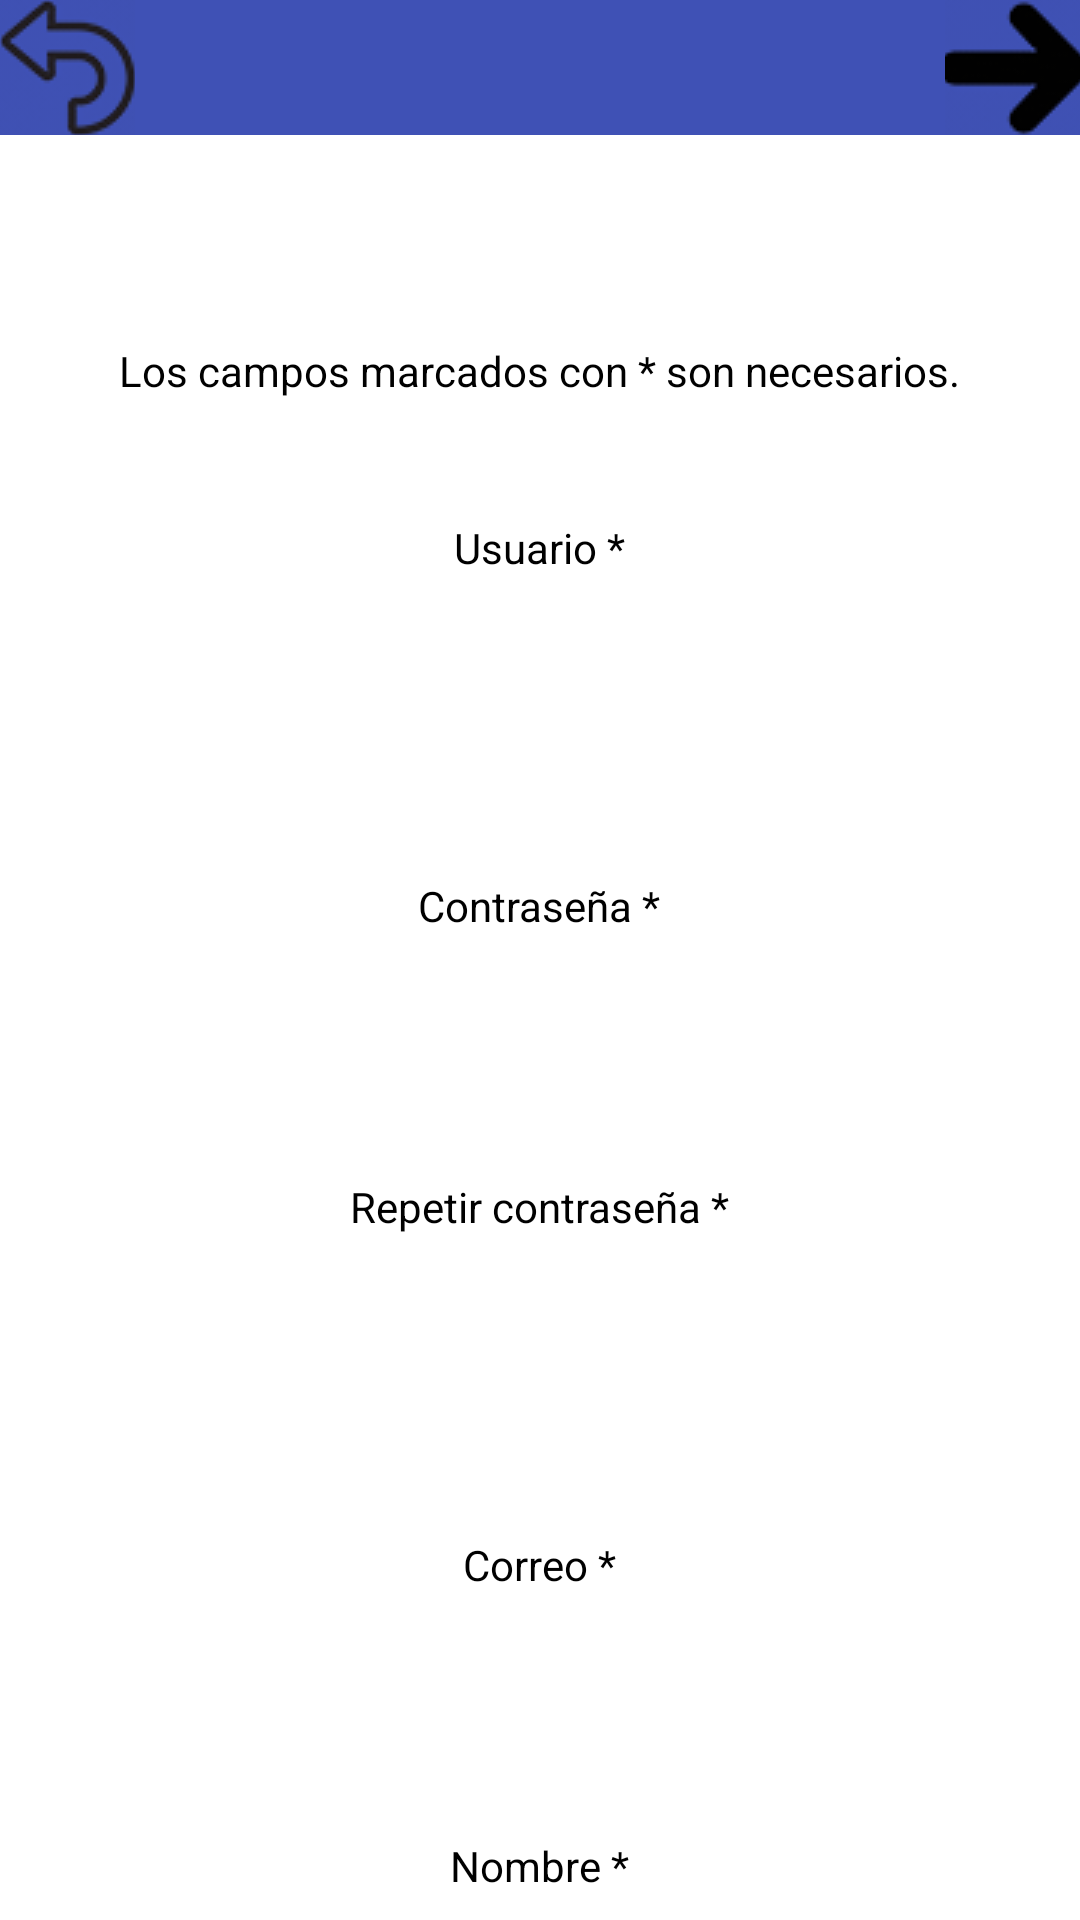

Where to tap for icons on this 1080*1920 app screen, as (x,y):
gobackarrow: (67,67)
goforwardarrow: (1012,67)
